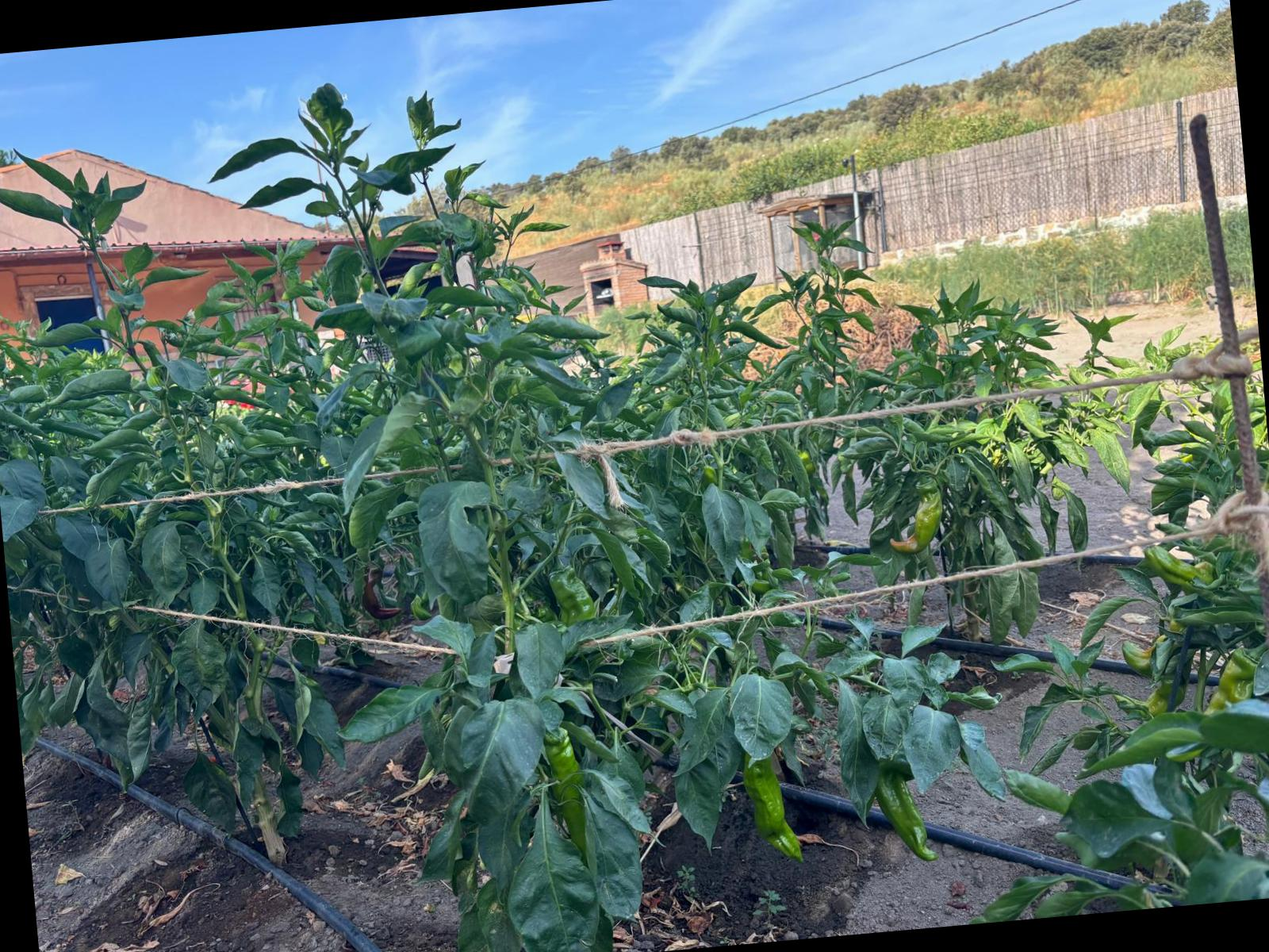pimientera: (39, 273, 1172, 950)
